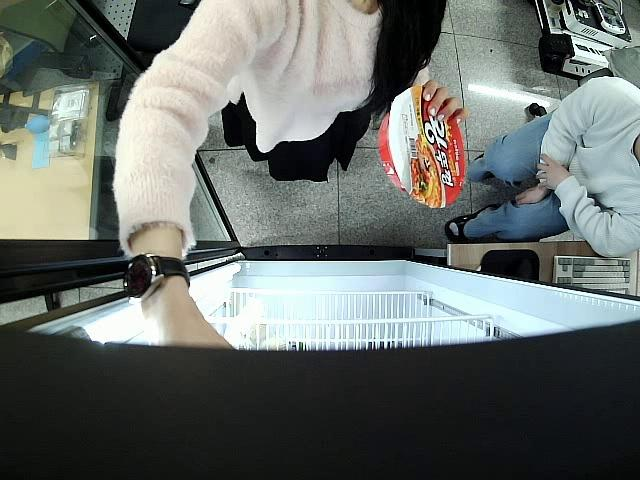00_hand: (422, 79, 472, 127)
10_wangTtukkeong: (378, 86, 465, 206)
